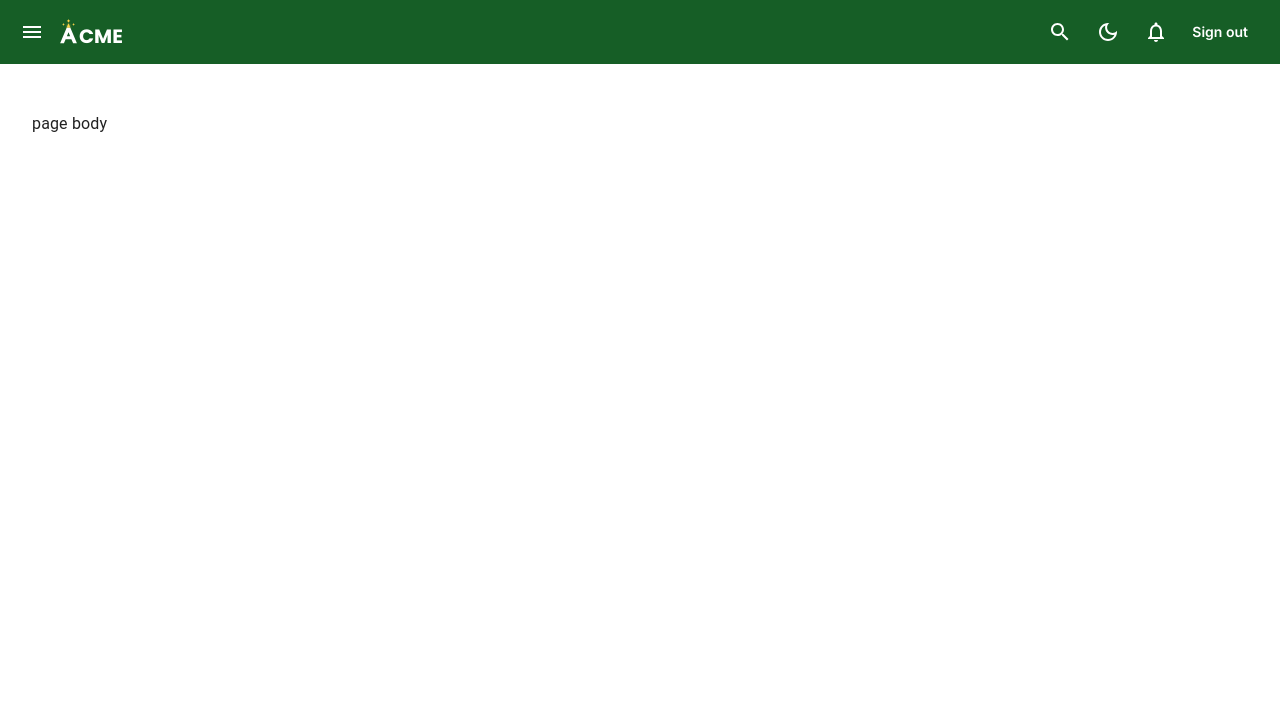
Test case: AppLayout › hides the menu behind a button on phones
Click the button named "open menu" at [32, 32], box [12, 12, 52, 52]
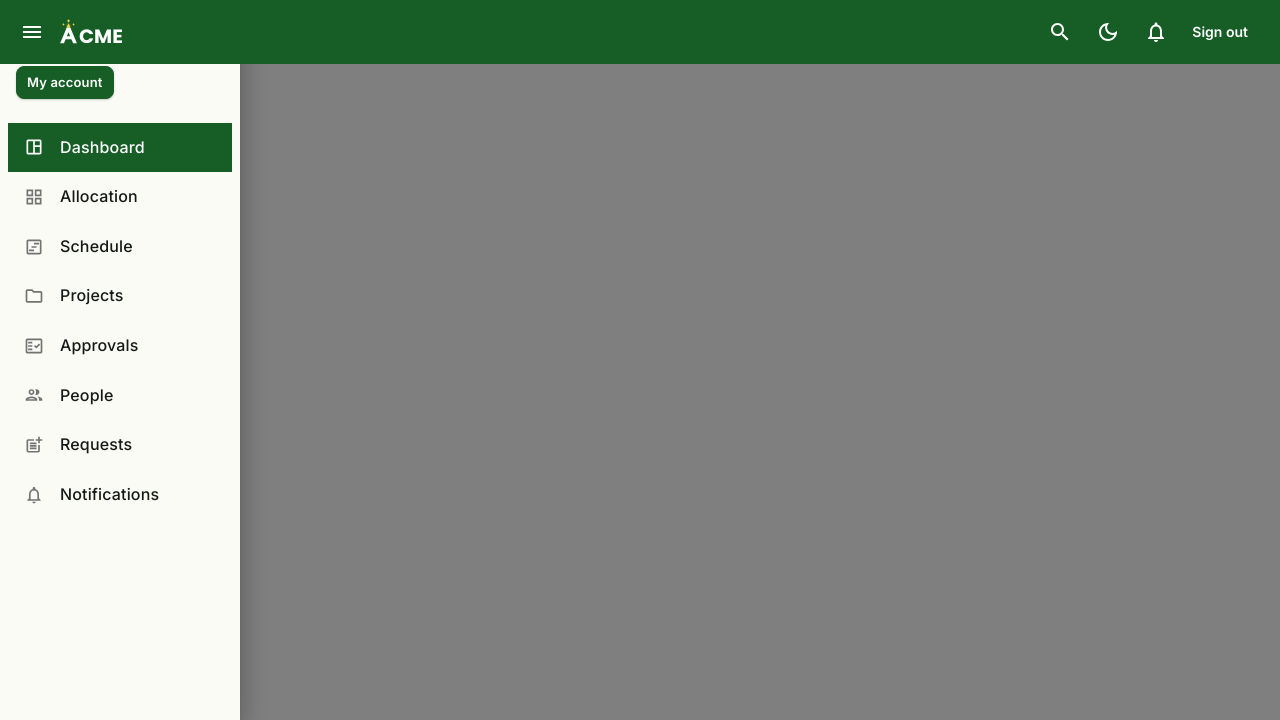
Expected: the navigation bar named "main menu" is shown, [0, 115, 240, 719]
